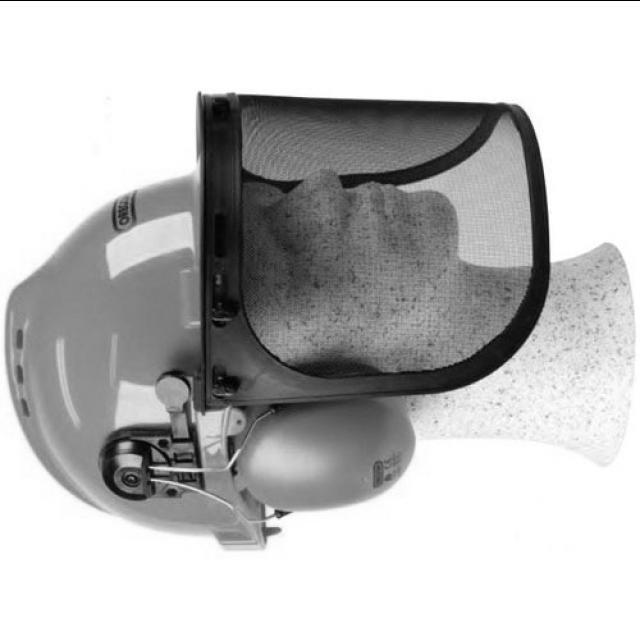safety_helmet: (8, 173, 417, 549)
